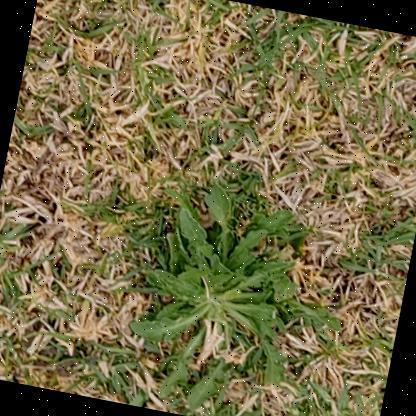Weeds: (114, 171, 370, 415)
